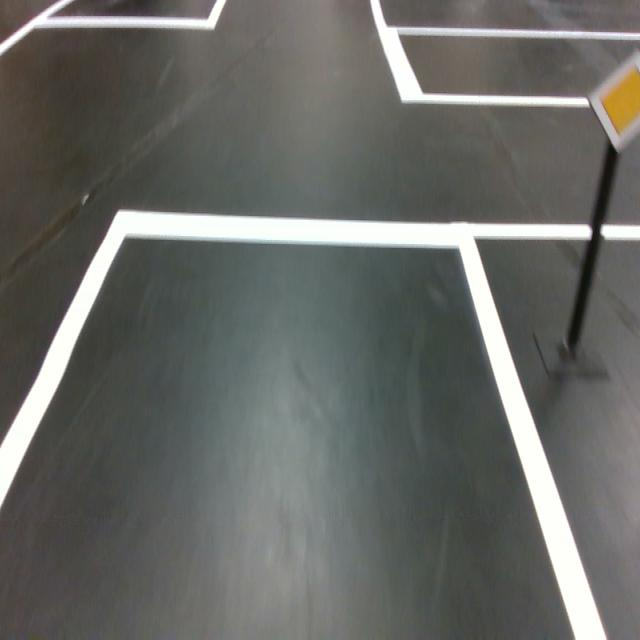priority-sign: (585, 46, 640, 156)
